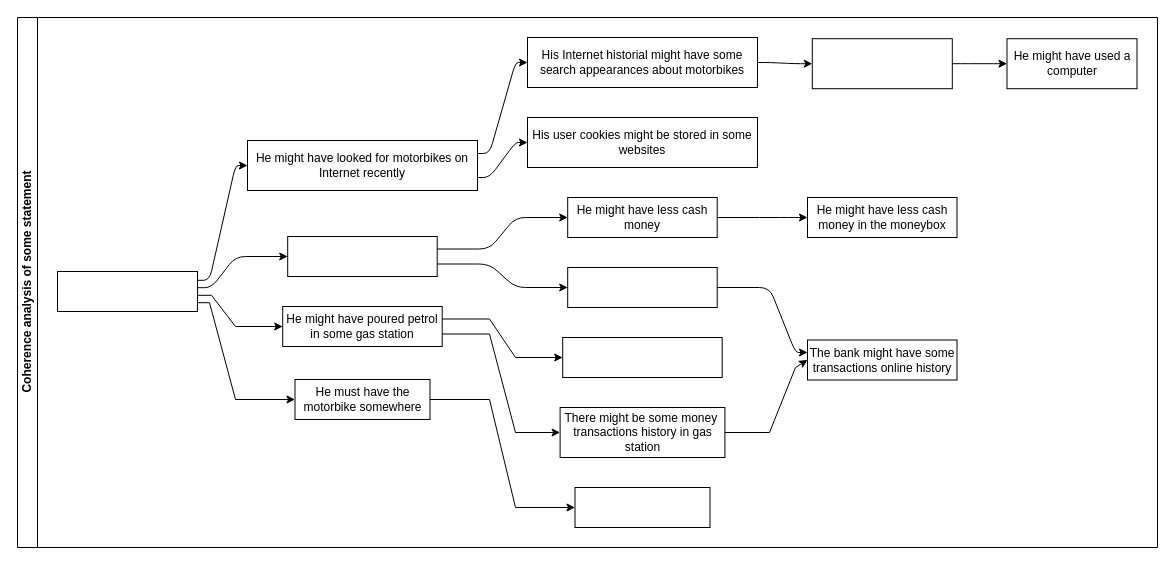
The diagram is 1175 pixels wide and 565 high, and some of its shapes have lost their labels. Here are the shapes that lost their labels. From the top down, the centre of each, then its label:
point (881, 63): He might have used a web browser
point (362, 256): He might have spent some money
point (127, 291): Javier says "I have a new motorbike"
point (642, 287): He might have less money in bank account
point (642, 357): The gas station salesperson might remember him
point (642, 507): He might have a garage space
